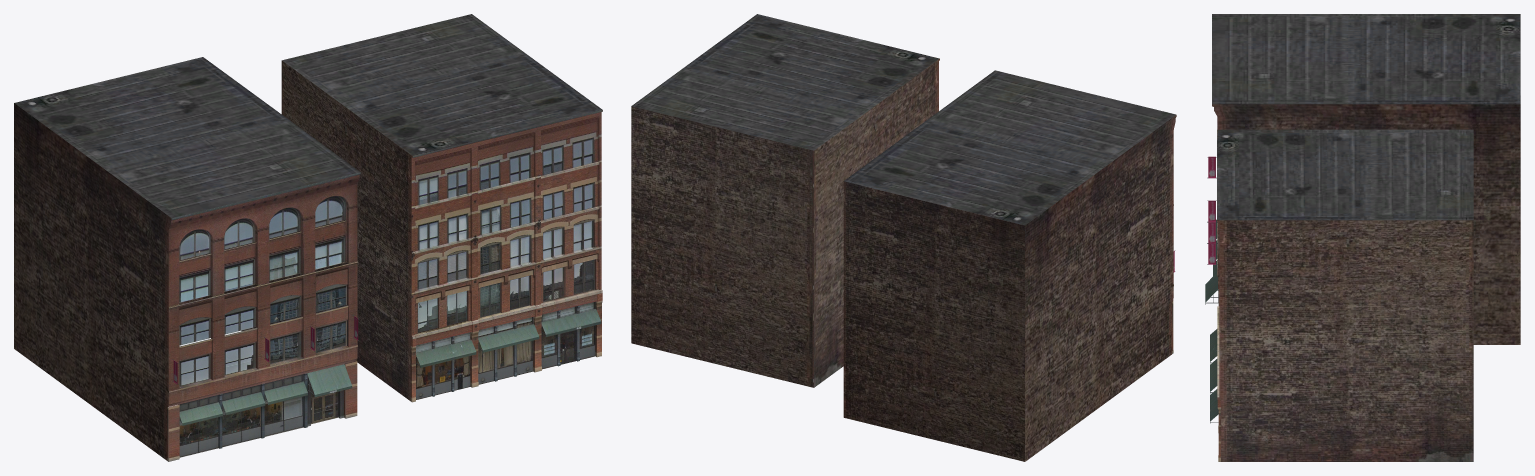
Rendered from ChicagoBuildings.fbx.
3 renders of one model, left to right at view 1: azimuth 30°, elevation 25°; view 2: azimuth 150°, elevation 25°; view 3: azimuth 270°, elevation 25°, orthographic. The views are drawn at different scales.
Parts seen in each view (by area): view 1: Building 2, Building 1; view 2: Building 2, Building 1; view 3: Building 1, Building 2.
Boxes of the visible parts, <box> form: Building 2: <box>14,57,360,461</box>; Building 1: <box>281,14,602,402</box>; Building 2: <box>843,70,1176,461</box>; Building 1: <box>631,14,939,387</box>; Building 1: <box>1210,129,1473,461</box>; Building 2: <box>1205,14,1520,344</box>.
Size of the model in its own units: 17609 by 9573 by 11328.
Materials: 2 (2 with a texture image).
